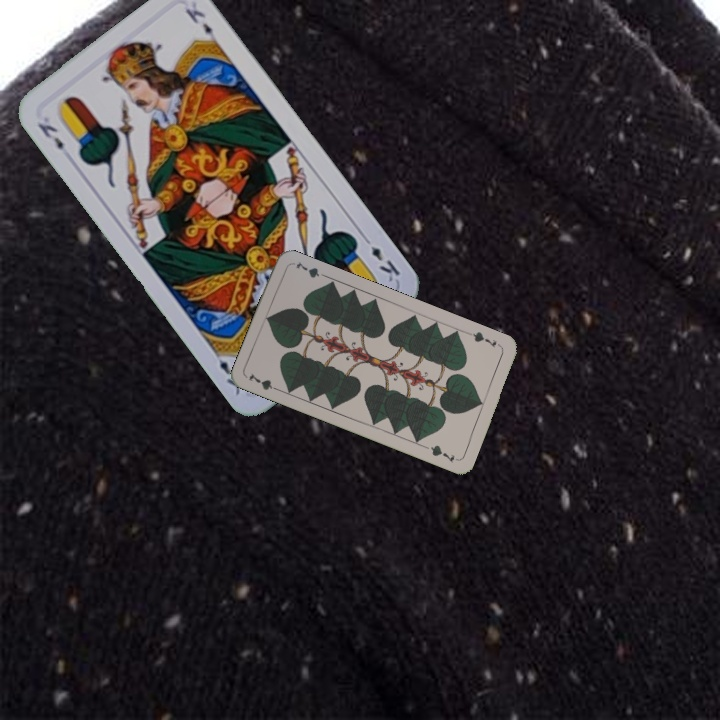EK: (358, 231, 403, 285), (33, 118, 67, 153)
G7: (244, 369, 283, 394), (465, 327, 499, 350)
